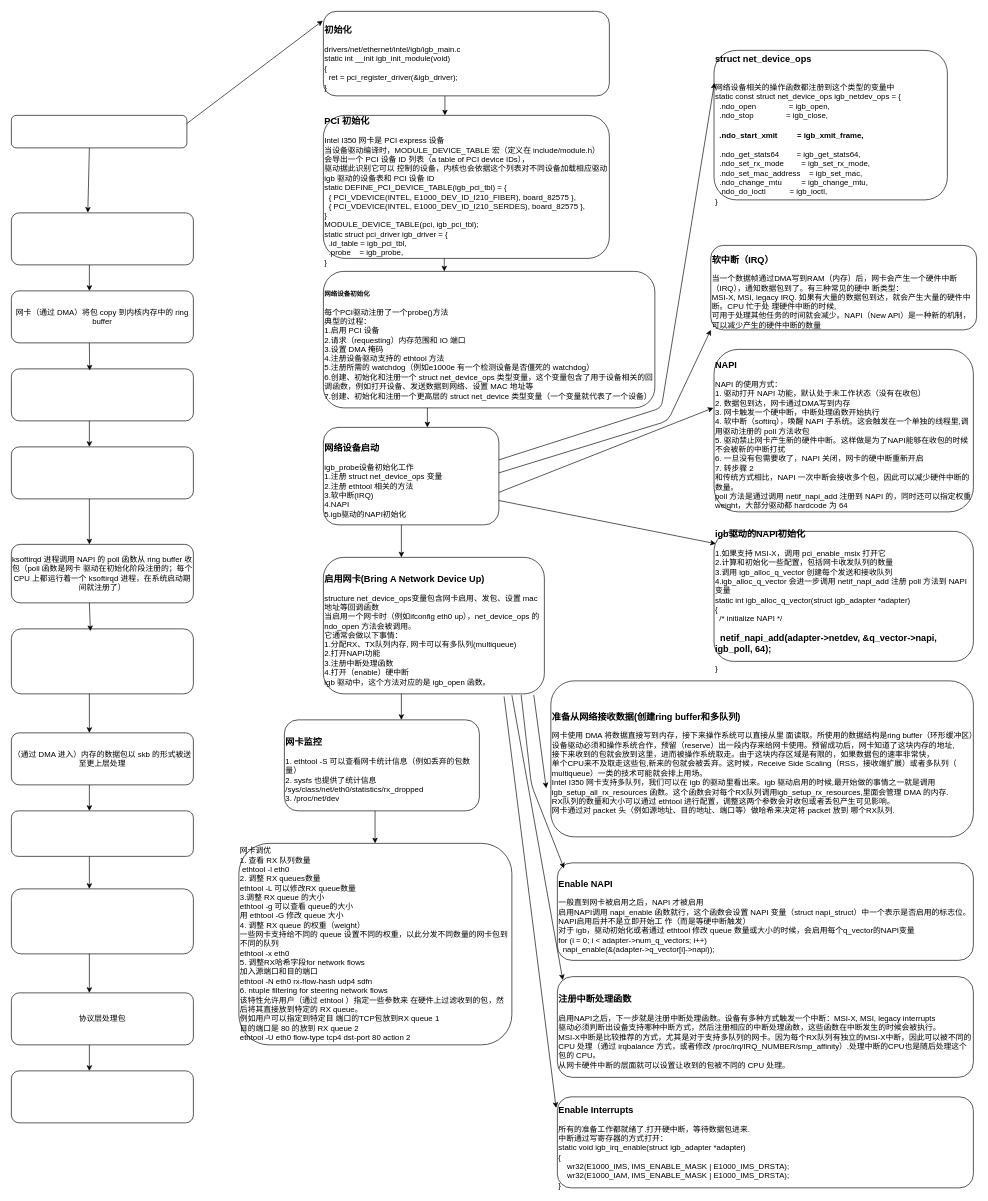
This 988x1201 diagram has some shape labels left out. Each missing label, with the centre of its shape:
"ring buffer 里包对应的内存区域解除映射（unmapped）" goes at point (102, 661).
"产生硬件中断，通知系统收到了一个包" goes at point (102, 394).
"加载网卡驱动，初始化" goes at point (99, 131).
"包从协议层进入相应 socket 的接收队列" goes at point (102, 1096).
"包从外部网络进入网卡" goes at point (102, 238).
"包从队列进入协议层" goes at point (102, 921).
"如果 packet steering 功能打开，或者网卡有多队列，网卡收到的包会被分发到多个 CPU" goes at point (102, 833).
"驱动调用 NAPI，如果轮询（poll）还没开始，就开始轮询" goes at point (102, 472).
